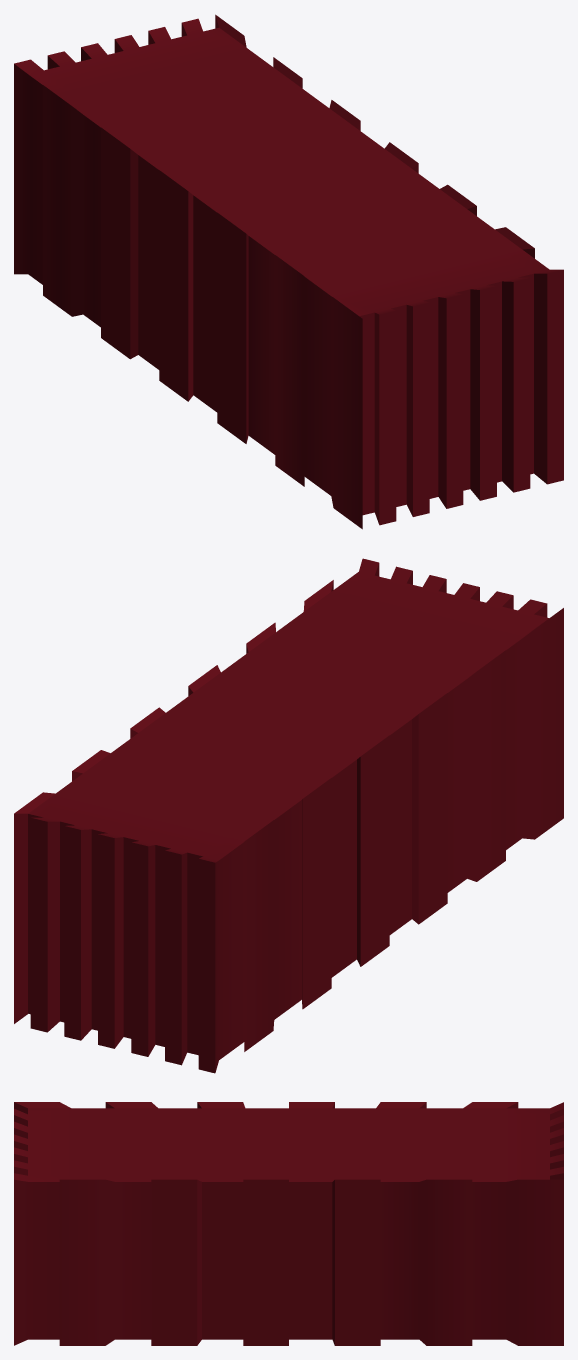
File: Контенер .fbx
The picture shows the model from 3 angles, top to bottom: view 1: azimuth 30°, elevation 25°; view 2: azimuth 150°, elevation 25°; view 3: azimuth 270°, elevation 25°; orthographic projection. The views are drawn at different scales.
Parts seen in each view (by area): view 1: Объект_Куб; view 2: Объект_Куб; view 3: Объект_Куб.
Boxes of the visible parts, x1,y1,x2,y2 form: Объект_Куб: [14, 14, 563, 529]; Объект_Куб: [14, 558, 563, 1073]; Объект_Куб: [14, 1102, 563, 1345].
Bounding box in the file's own units: 211 × 211 × 632.
